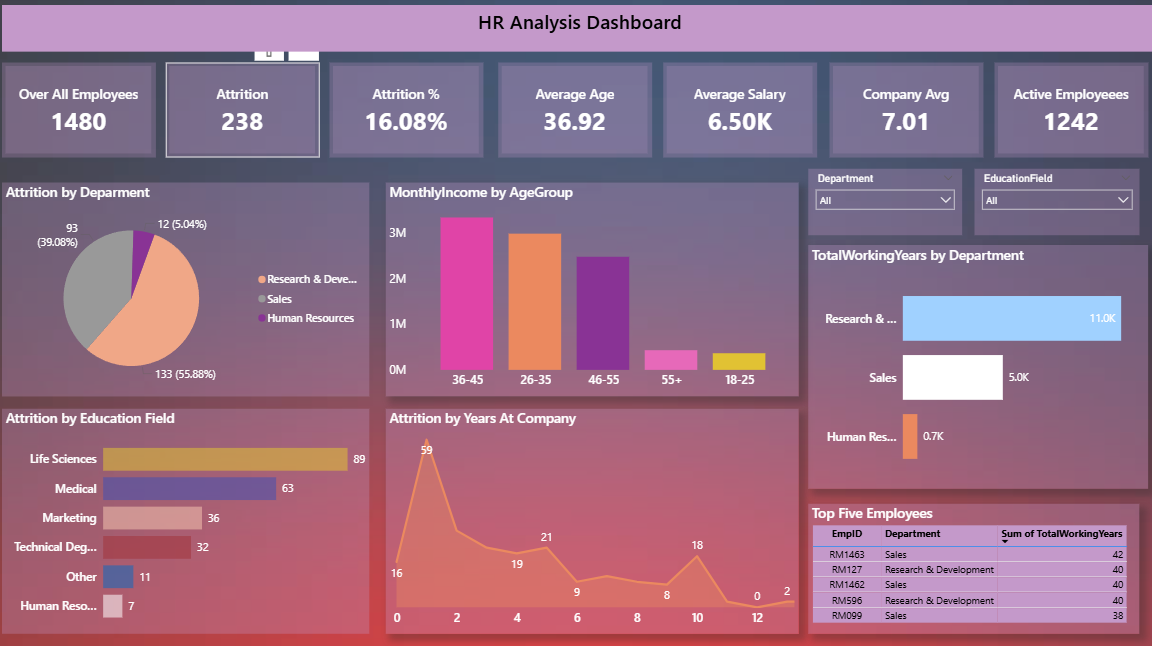

The page's visual inventory and layout, read from the dashboard file:
{"tool":"powerbi","page":{"name":"Page 1","canvas":[1600,900],"ordinal":0},"visuals":[{"type":"cardVisual","fields":{"Data":["HR_Analytics.Employees"]},"box":[13.7,92.6,211,130.4],"z":0},{"type":"cardVisual","fields":{"Data":["Sum(HR_Analytics.Employyees left)"]},"box":[238.4,92.6,211,130.4],"z":1000},{"type":"cardVisual","fields":{"Data":["HR_Analytics.Attrition %"]},"box":[463.1,92.6,211,130.4],"z":2000},{"type":"cardVisual","fields":{"Data":["Avg(HR_Analytics.Age)"]},"box":[694.7,92.6,211,130.4],"z":3000},{"type":"cardVisual","fields":{"Data":["Avg(HR_Analytics.MonthlyIncome)"]},"box":[921.1,92.6,211,130.4],"z":4000},{"type":"cardVisual","fields":{"Data":["HR_Analytics.Active Employeees"]},"box":[1375.6,92.6,211,130.4],"z":5000},{"type":"cardVisual","fields":{"Data":["Avg(HR_Analytics.YearsAtCompany)"]},"box":[1149.2,92.6,211,130.4],"z":6000},{"type":"pieChart","title":"Attrition by Deparment","fields":{"Category":["HR_Analytics.Department"],"Y":["Sum(HR_Analytics.Employyees left)"]},"box":[13.7,257.3,504.3,293.3],"z":7000},{"type":"barChart","title":"Attrition by Education Field","fields":{"Category":["HR_Analytics.EducationField"],"Y":["Sum(HR_Analytics.Employyees left)"]},"box":[13.7,567.8,504.3,308.7],"z":8000},{"type":"areaChart","title":"Attrition by Years At Company","fields":{"Y":["Sum(HR_Analytics.Employyees left)"],"Category":["HR_Analytics.YearsAtCompany"]},"box":[540.3,567.8,566,308.7],"z":9000},{"type":"columnChart","title":"MonthlyIncome by AgeGroup","fields":{"Category":["HR_Analytics.AgeGroup"],"Y":["Sum(HR_Analytics.MonthlyIncome)"]},"box":[540.3,257.3,566,293.3],"z":10000},{"type":"clusteredBarChart","title":"TotalWorkingYears by Department","fields":{"Category":["HR_Analytics.Department"],"Y":["Sum(HR_Analytics.TotalWorkingYears)"]},"box":[1120.1,343.1,466.6,334.5],"z":11000},{"type":"tableEx","title":"Top Five Employees","fields":{"Values":["HR_Analytics.EmpID","HR_Analytics.Department","Sum(HR_Analytics.TotalWorkingYears)"]},"box":[1120.1,698.1,454.5,178.4],"z":12000},{"type":"slicer","fields":{"Values":["HR_Analytics.Department"]},"box":[1120.1,238.4,211,90.9],"z":13000},{"type":"slicer","fields":{"Values":["HR_Analytics.EducationField"]},"box":[1348.2,238.4,226.4,90.9],"z":14000},{"type":"textbox","box":[13.8,13.8,1586.2,64.4],"z":15000}]}

Visuals, with their boxes in screenshot pixels (x1, y1, x2, y2), scaled from the page's 1600x900 canvas onto the 1152x646 screenshot:
cardVisual - HR_Analytics.Employees: bbox=[10, 66, 162, 160]
cardVisual - Sum(HR_Analytics.Employyees left): bbox=[172, 66, 324, 160]
cardVisual - HR_Analytics.Attrition %: bbox=[333, 66, 485, 160]
cardVisual - Avg(HR_Analytics.Age): bbox=[500, 66, 652, 160]
cardVisual - Avg(HR_Analytics.MonthlyIncome): bbox=[663, 66, 815, 160]
cardVisual - HR_Analytics.Active Employeees: bbox=[990, 66, 1142, 160]
cardVisual - Avg(HR_Analytics.YearsAtCompany): bbox=[827, 66, 979, 160]
"Attrition by Deparment" pieChart: bbox=[10, 185, 373, 395]
"Attrition by Education Field" barChart: bbox=[10, 408, 373, 629]
"Attrition by Years At Company" areaChart: bbox=[389, 408, 797, 629]
"MonthlyIncome by AgeGroup" columnChart: bbox=[389, 185, 797, 395]
"TotalWorkingYears by Department" clusteredBarChart: bbox=[806, 246, 1142, 486]
"Top Five Employees" tableEx: bbox=[806, 501, 1134, 629]
slicer - HR_Analytics.Department: bbox=[806, 171, 958, 236]
slicer - HR_Analytics.EducationField: bbox=[971, 171, 1134, 236]
textbox: bbox=[10, 10, 1151, 56]
